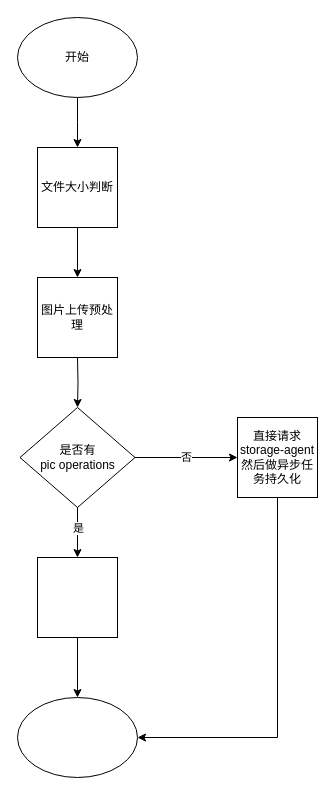
This 335x795 diagram has some shape labels left out. The centre of each missing label's shape, as x and y in pixels:
做fop处理: point 77,597
结束: point 77,737
